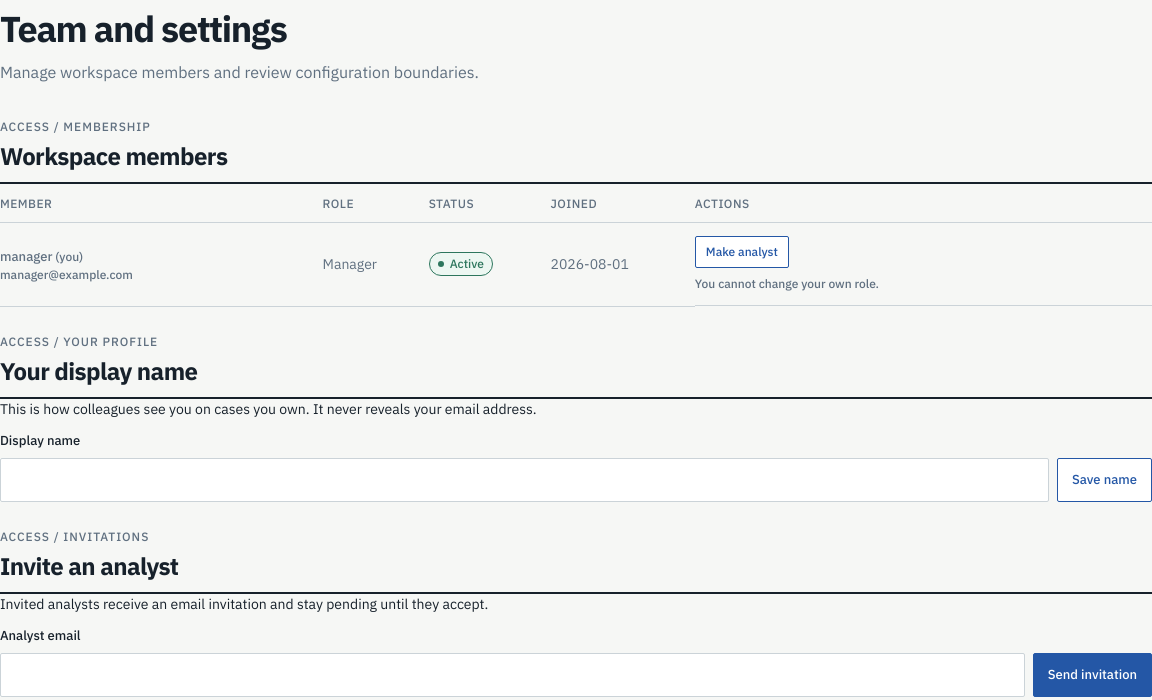
WorkspacePage › does not report a failed invitation when only the roster refresh fails
Expected: the table named "workspace members" is shown, [0,184,1151,306]
Type "new.analyst@example.com" into the field labelled "Analyst email" at [512, 674], box [0,652,1025,696]
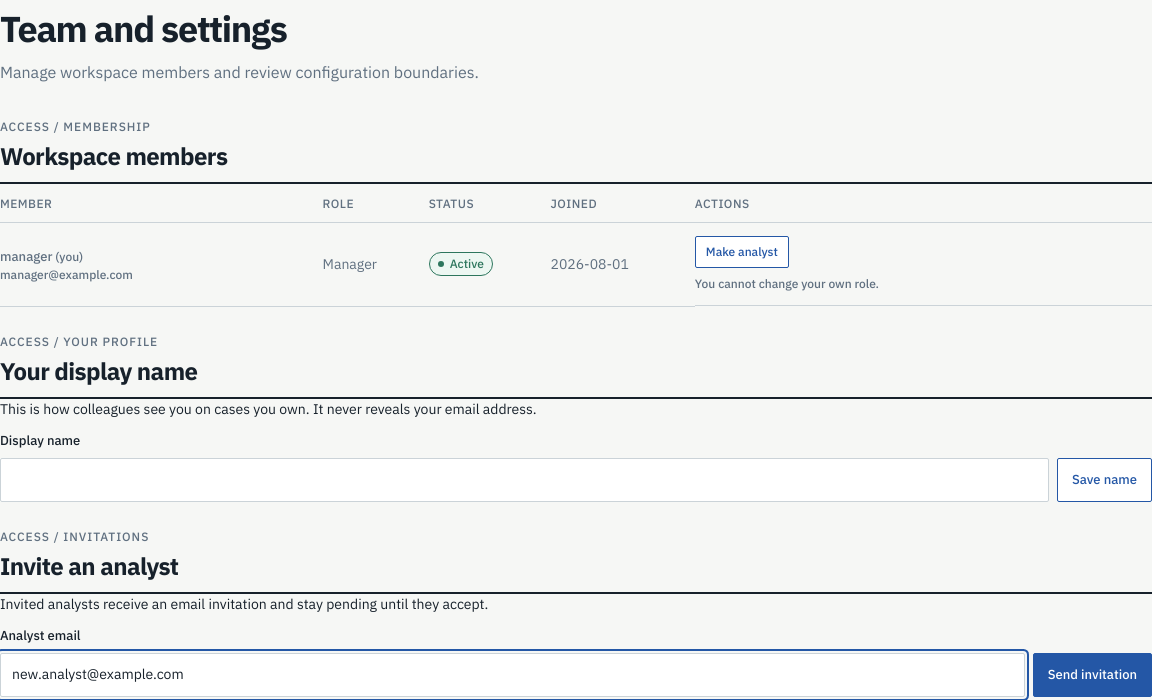
Click the button "Send invitation" at [1092, 674], box [1033,652,1151,696]
(page scrolled)
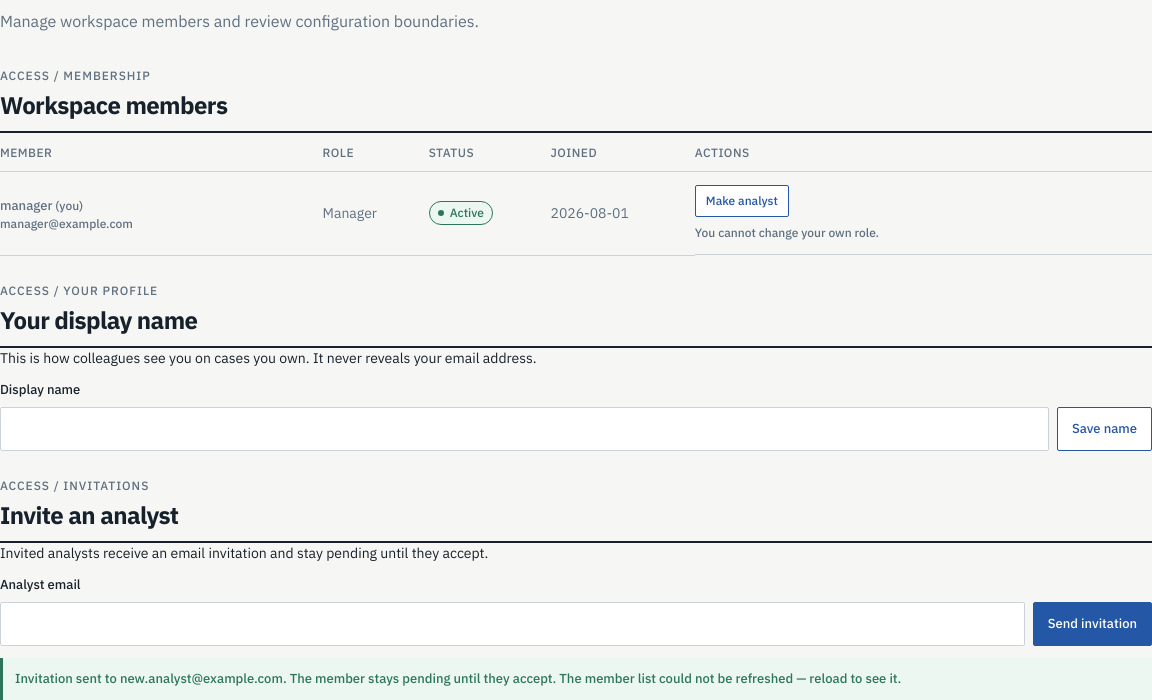
Expected: the message shows "Invitation sent to new.analyst@example.com", [15,670,901,686]
